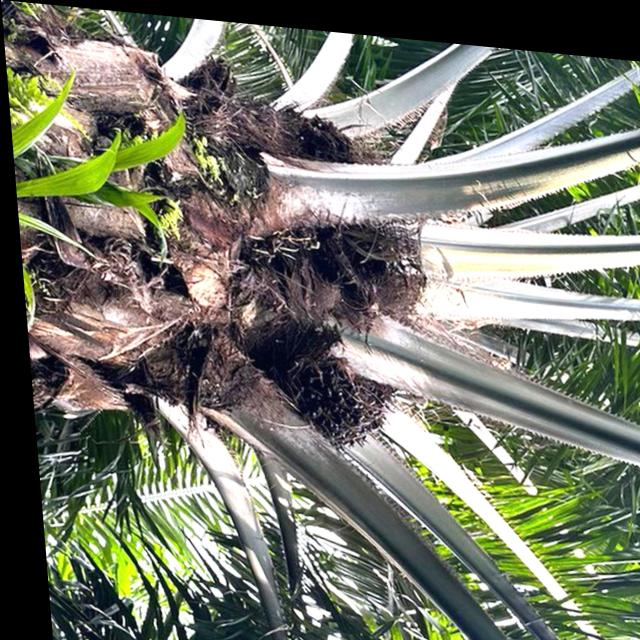almost: (262, 325, 398, 457)
